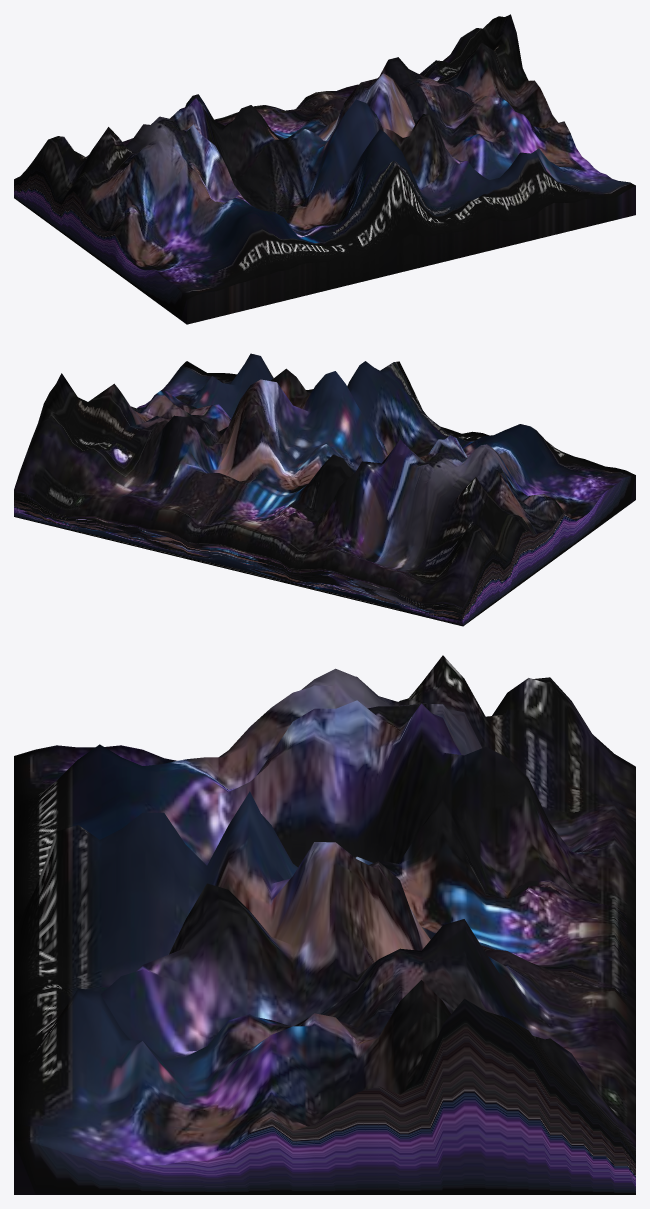
Rendered from RELATIONSHIP_12_Engagement.glb.
The picture shows the model from 3 angles, top to bottom: view 1: azimuth 30°, elevation 25°; view 2: azimuth 150°, elevation 25°; view 3: azimuth 270°, elevation 25°; orthographic projection. The views are drawn at different scales.
Parts seen in each view (by area): view 1: RELATIONSHIP_12_Engagement; view 2: RELATIONSHIP_12_Engagement; view 3: RELATIONSHIP_12_Engagement.
Boxes of the visible parts, x1=… form: RELATIONSHIP_12_Engagement: x1=14, y1=14, x2=635, y2=324; RELATIONSHIP_12_Engagement: x1=14, y1=353, x2=635, y2=626; RELATIONSHIP_12_Engagement: x1=14, y1=655, x2=635, y2=1194.
Size of the model in its own units: 2 by 0.51 by 1.33.
Materials: 1 (1 with a texture image).
